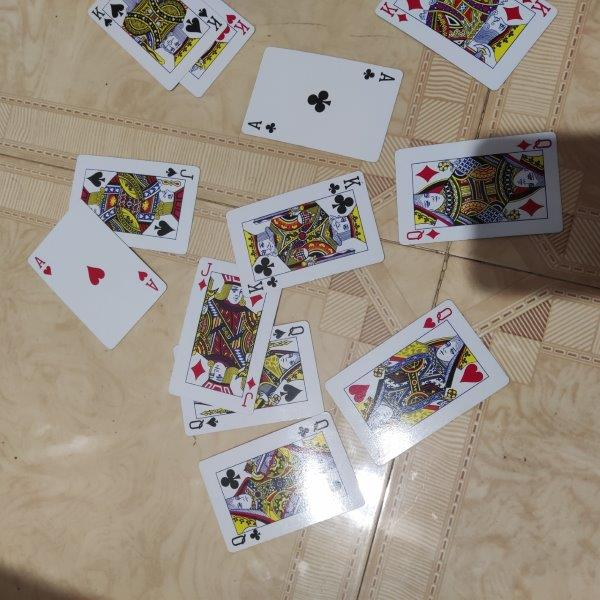Ace of Clubs: (241, 46, 404, 163)
Ace of Hearts: (27, 199, 169, 351)
Jack of Diamonds: (168, 258, 282, 416)
Jack of Spades: (70, 154, 201, 256)
King of Clubs: (225, 169, 386, 298)
King of Diamonds: (375, 1, 559, 90)
King of Hearts: (179, 1, 256, 98)
King of Spades: (87, 1, 227, 92)
Queen of Clubs: (197, 409, 367, 553)
Queen of Diamonds: (394, 131, 564, 246)
Queen of Hearts: (324, 298, 510, 467)
Queen of Spades: (172, 321, 326, 436)
